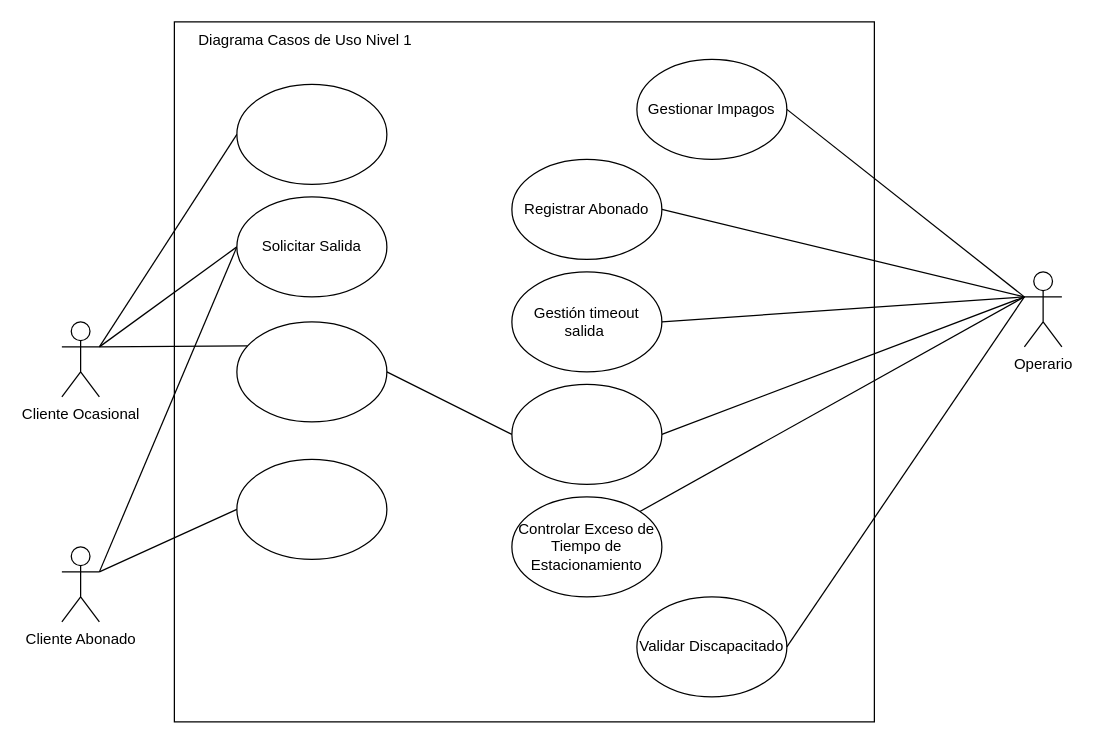
Some shapes in this 1094 by 744 pixel diagram are drawn without their labels. Here are the shapes that lost their labels. From the top down, the box of each, then its label:
(236, 83, 387, 184): Solicitar Entarda
(236, 321, 387, 422): Pagar Estancia
(511, 383, 662, 484): Ticket Incidencia
(236, 458, 387, 559): Acceso Tarjeta/Lector Matriculas
